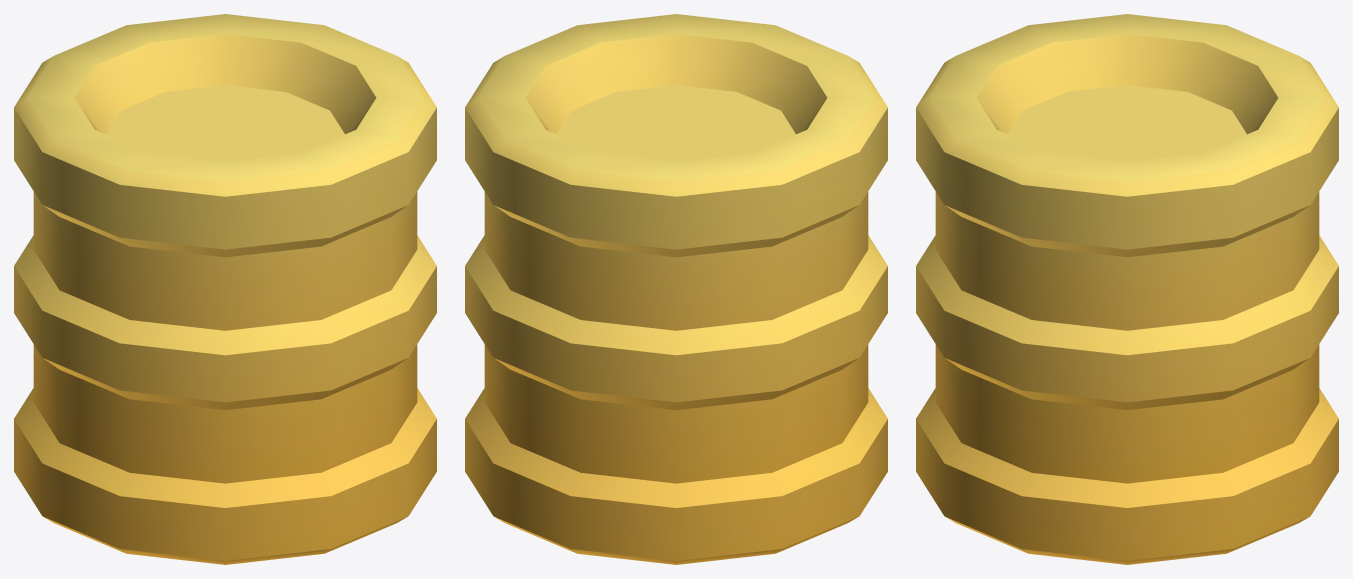
File: barrel-b.glb
3 renders of one model, left to right at view 1: azimuth 30°, elevation 25°; view 2: azimuth 150°, elevation 25°; view 3: azimuth 270°, elevation 25°, orthographic.
Visible parts, largest first — view 1: Barrel_B; view 2: Barrel_B; view 3: Barrel_B.
Part boxes in pixels (<box>): Barrel_B: <box>14,14,436,564</box>; Barrel_B: <box>465,14,887,564</box>; Barrel_B: <box>916,14,1338,564</box>.
Bounding box in the file's own units: 1 × 1 × 1.
1 material, 1 textured.
